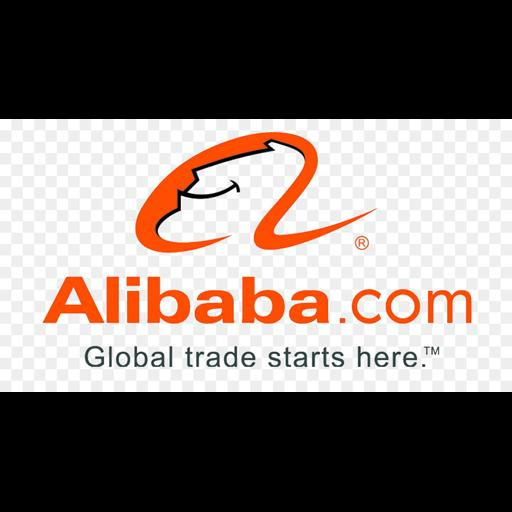Alibaba: (0, 119, 512, 392)
